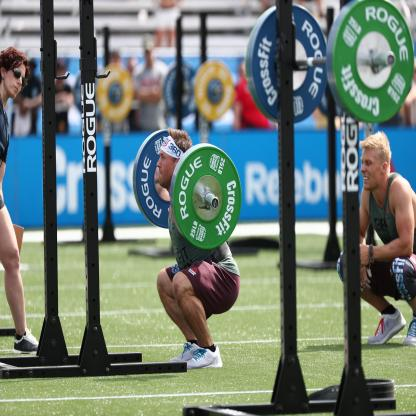barbell: (172, 146, 243, 251)
